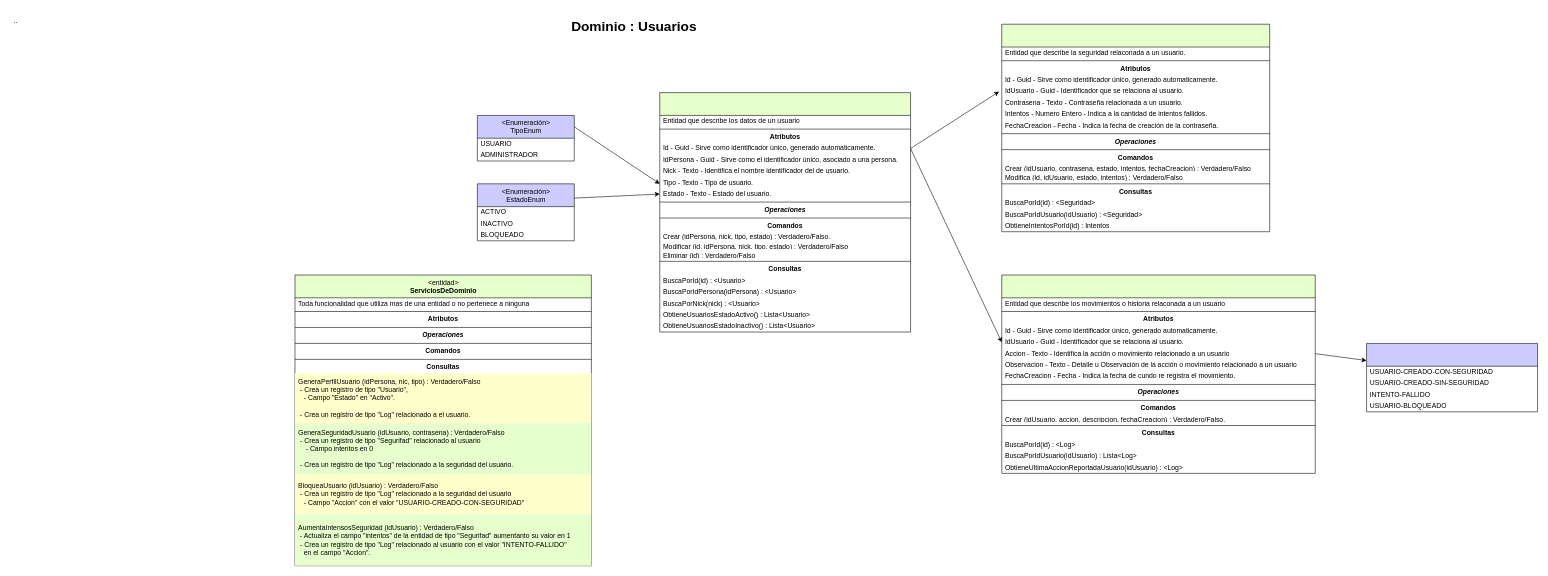
Image size: 1548x576. Some labels were removed from this diagram. The shapes that lost their labels are listed below. From the top down, each one's box as (x1, y1, x2, y2) in pixels, then its label:
(1001, 24, 1270, 232): <entidad> Seguridad
(659, 92, 911, 332): <entidad> Usuario
(1001, 274, 1315, 473): <entidad> Log
(1366, 343, 1538, 412): <Enumeración> AccionEnum
